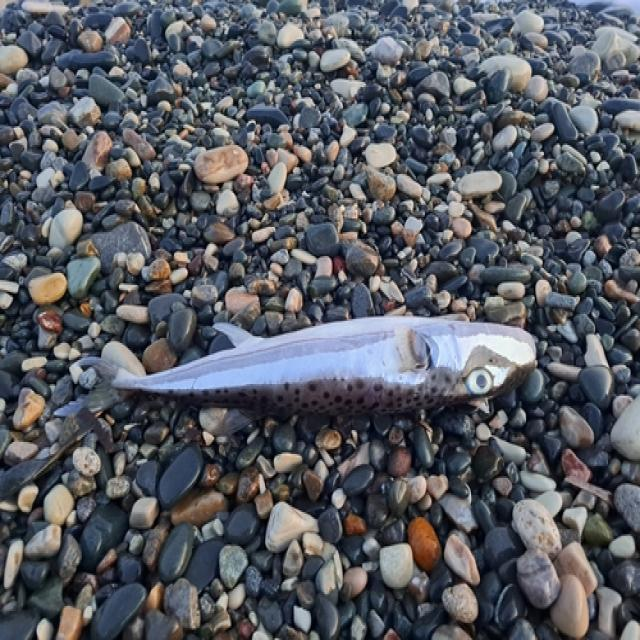Balik: (80, 318, 536, 414)
